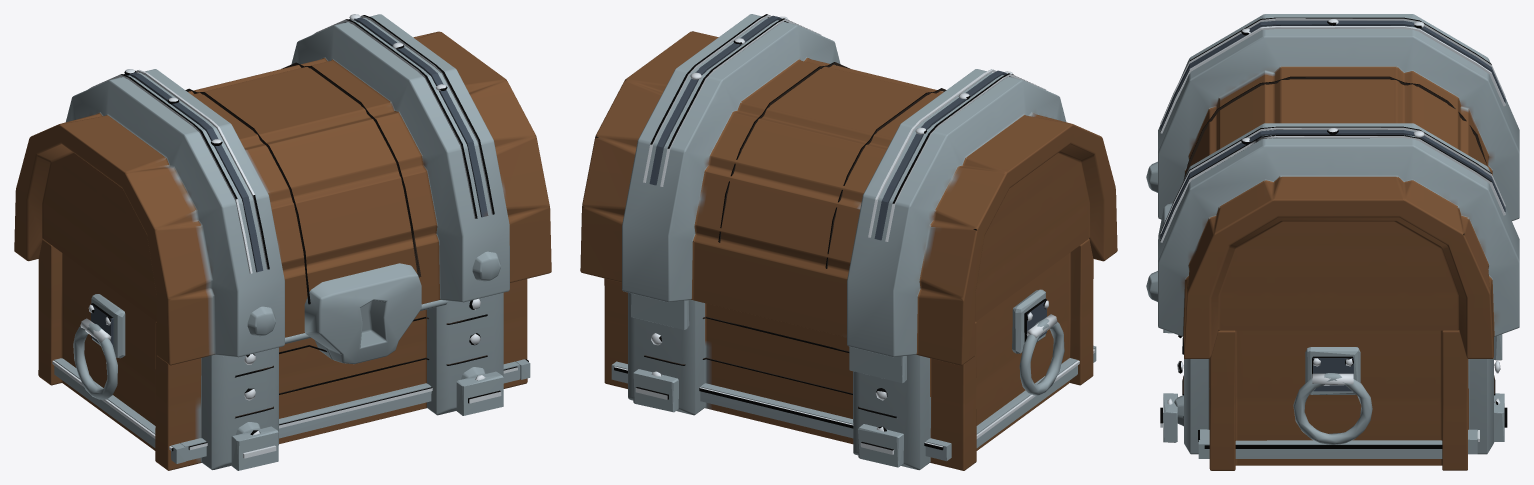
The model's file is dungeon-keeper.glb.
3 renders of one model, left to right at view 1: azimuth 30°, elevation 25°; view 2: azimuth 150°, elevation 25°; view 3: azimuth 270°, elevation 25°, orthographic.
Parts seen in each view (by area): view 1: LidShell, Body; view 2: LidShell, Body; view 3: LidShell, Body.
Boxes of the visible parts, box(x1,y1,x2,y2) form: LidShell: box(14, 14, 551, 365); Body: box(38, 239, 530, 470); LidShell: box(580, 14, 1117, 365); Body: box(604, 239, 1096, 470); LidShell: box(1146, 14, 1519, 358); Body: box(1160, 329, 1507, 470).
Bounding box in the file's own units: 2 × 1.52 × 1.66.
1 material, 1 textured.
